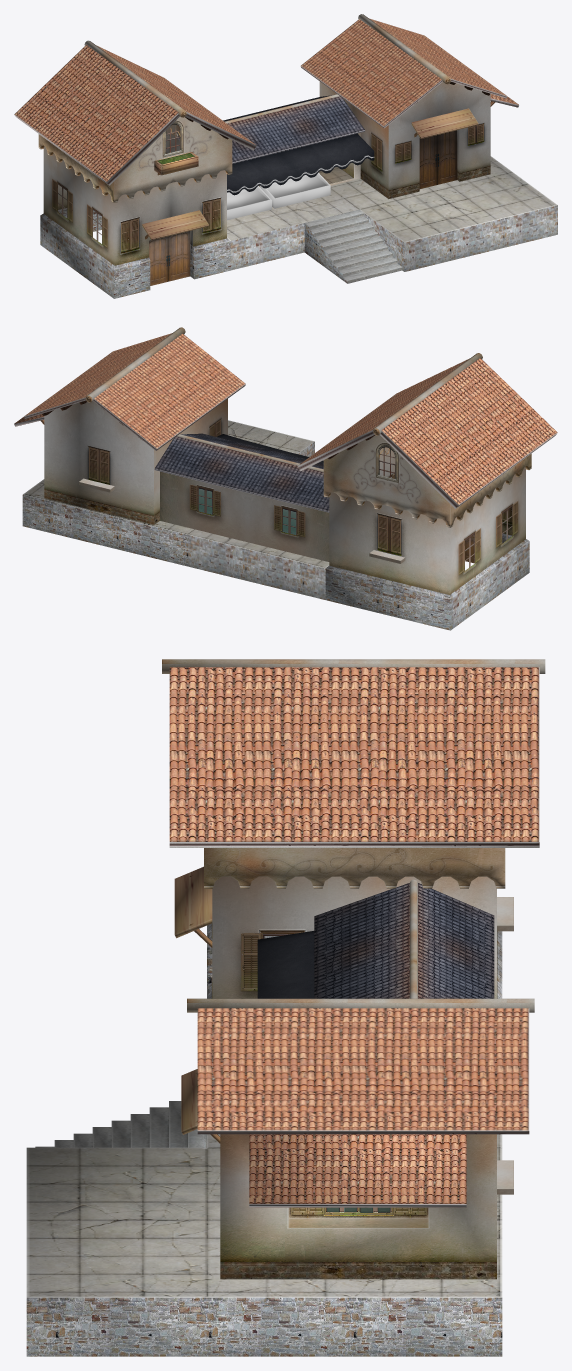
File: FFP_House_01.fbx
3 renders of one model, top to bottom at view 1: azimuth 30°, elevation 25°; view 2: azimuth 150°, elevation 25°; view 3: azimuth 270°, elevation 25°, orthographic. The views are drawn at different scales.
Parts seen in each view (by area): view 1: polySurface204, polySurface208, polySurface205, polySurface211, polySurface288; view 2: polySurface204, polySurface205, polySurface211, polySurface208; view 3: polySurface204, polySurface205, polySurface208, polySurface211, polySurface288.
Boxes of the visible parts, x1,y1,x2,y2 form: polySurface204: (14, 40, 256, 298); polySurface208: (227, 156, 557, 283); polySurface205: (300, 14, 518, 198); polySurface211: (169, 94, 365, 220); polySurface288: (227, 133, 374, 195); polySurface204: (297, 353, 557, 630); polySurface205: (14, 327, 245, 524); polySurface211: (154, 433, 329, 561); polySurface208: (22, 420, 329, 599); polySurface204: (162, 659, 545, 998); polySurface205: (181, 998, 534, 1279); polySurface208: (26, 1101, 502, 1356); polySurface211: (314, 879, 494, 998); polySurface288: (257, 931, 314, 998).
Bounding box in the file's own units: 49.24 × 19.82 × 25.55.
